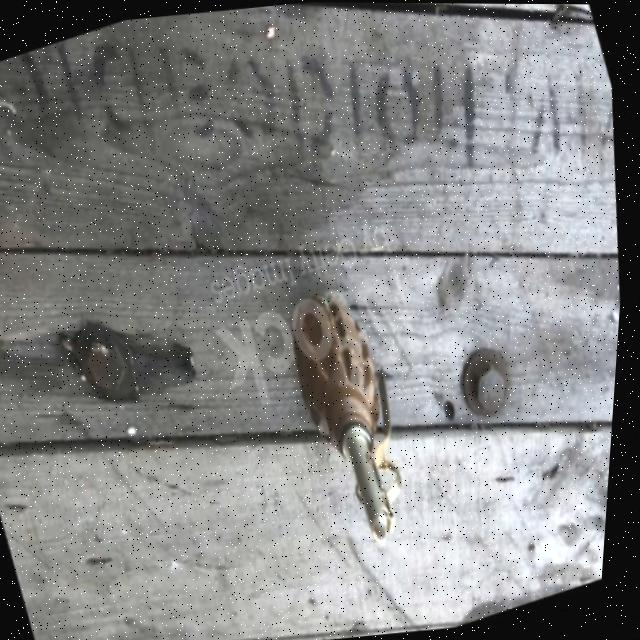grenade: (262, 269, 449, 560)
